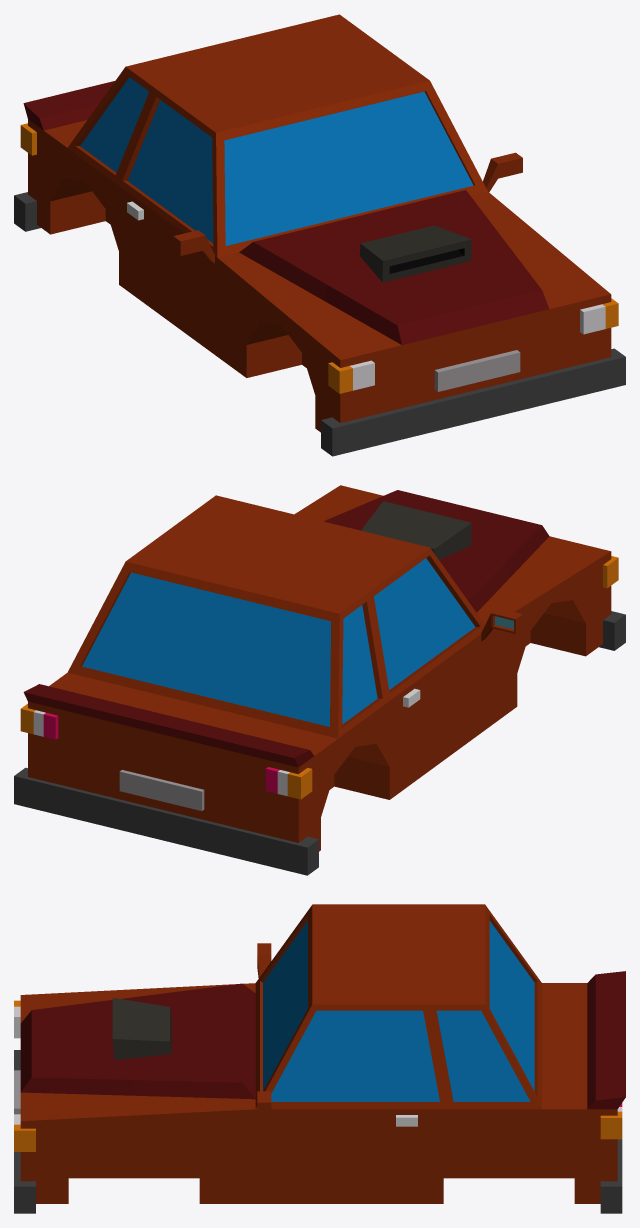
File: car_3.fbx
The picture shows the model from 3 angles, top to bottom: view 1: azimuth 30°, elevation 25°; view 2: azimuth 150°, elevation 25°; view 3: azimuth 270°, elevation 25°; orthographic projection. The views are drawn at different scales.
Parts seen in each view (by area): view 1: car_3; view 2: car_3; view 3: car_3.
Part boxes in pixels (box(x1,y1,x2,y2)): car_3: box(14, 14, 625, 456); car_3: box(14, 485, 625, 875); car_3: box(14, 904, 625, 1213).
Size of the model in its own units: 253 by 141 by 410.
